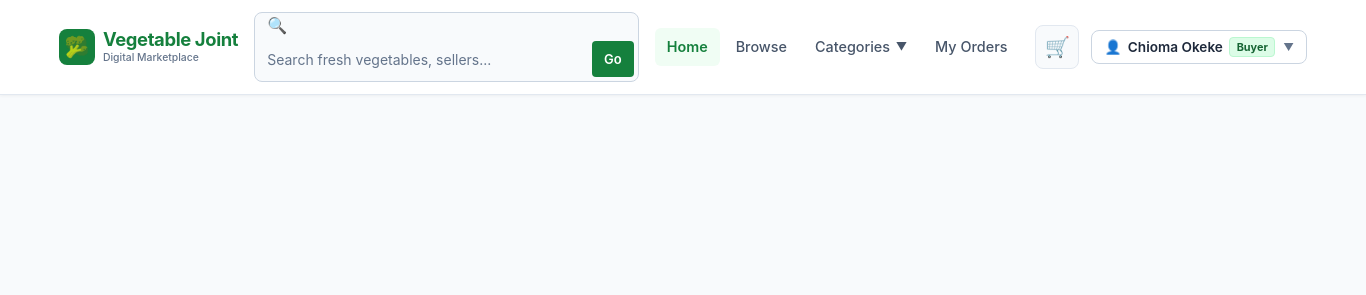
Scenario: Navbar Component (FE-022, UI-01, UI-07, CART-07) › Role-Dependent Navigation & Menus (UI-07) › displays Buyer-specific options when logged in as Buyer
Check: the link "My Orders" is shown, box [935,38,1007,55]
Check: the text "buyer" is shown, box [1229,37,1275,57]
# Open account popover
Click the button "👤 Chioma Okeke buyer ▼". click: (1199, 47)
box: [1092,30,1307,64]
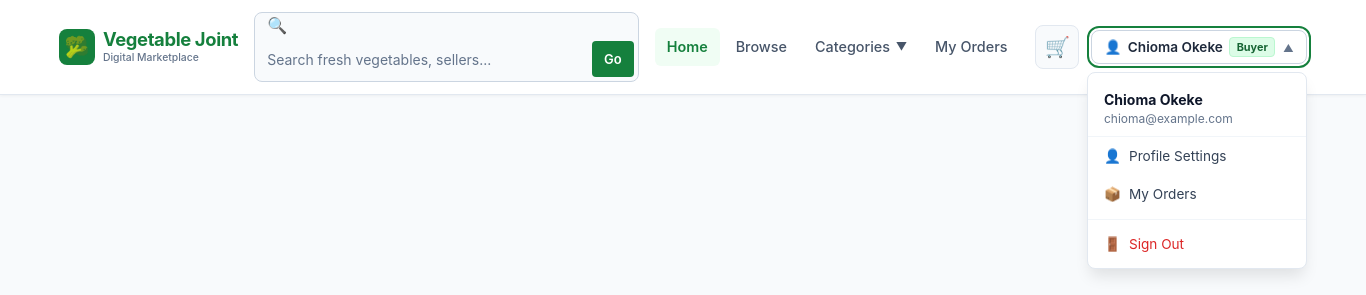
Check: the text "Profile Settings" is shown, box [1129,146,1226,166]
Check: the text "Sign Out" is shown, box [1129,236,1184,252]
